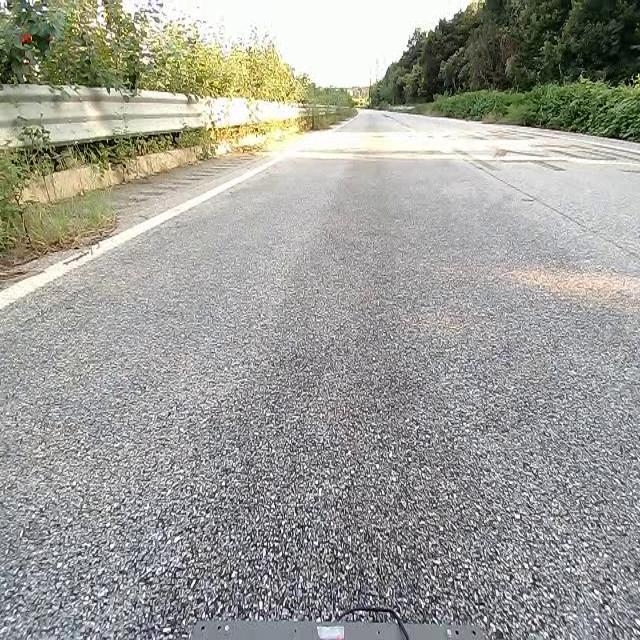Lane: (0, 141, 296, 311), (0, 151, 293, 310)
